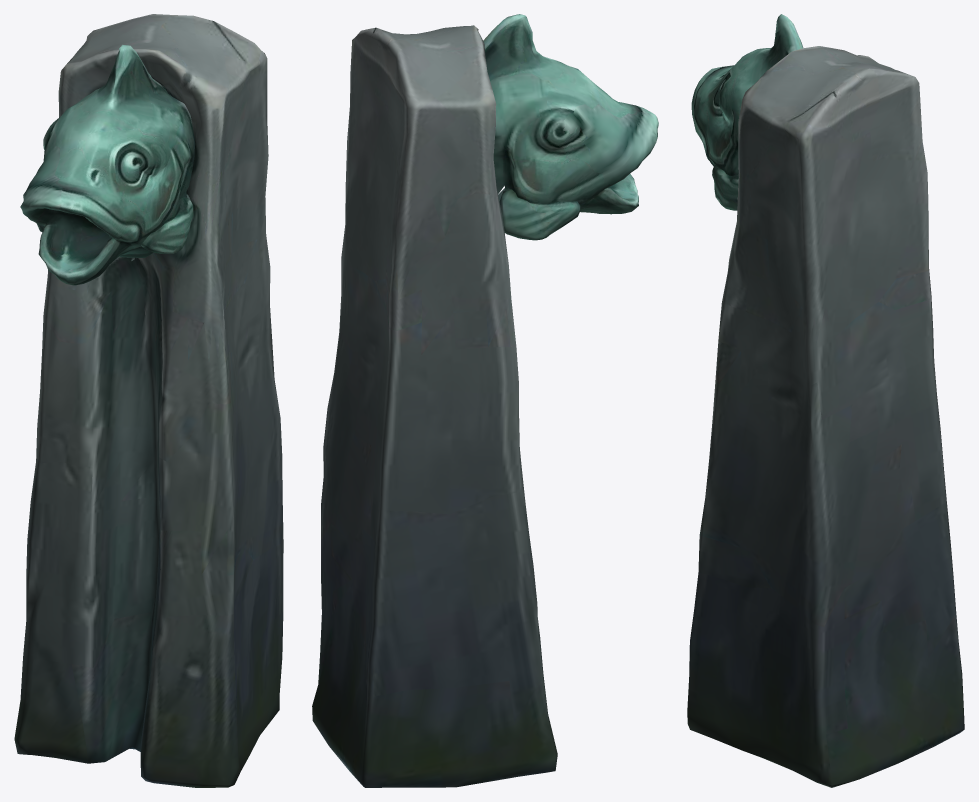
The model's file is el_bica.glb.
3 renders of one model, left to right at view 1: azimuth 30°, elevation 25°; view 2: azimuth 150°, elevation 25°; view 3: azimuth 270°, elevation 25°, orthographic. The views are drawn at different scales.
Parts seen in each view (by area): view 1: Mesh_0.006; view 2: Mesh_0.006; view 3: Mesh_0.006.
Boxes of the visible parts, left/top/right/bottom form: Mesh_0.006: left=14, top=14, right=283, bottom=787; Mesh_0.006: left=312, top=14, right=658, bottom=787; Mesh_0.006: left=687, top=14, right=964, bottom=787.
Bounding box in the file's own units: 0.2261 × 0.5346 × 0.1948.
1 material, 1 textured.
